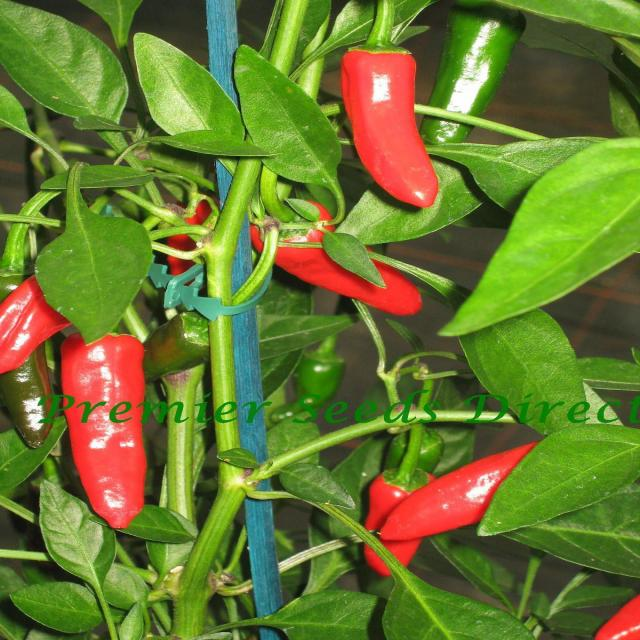red chili: (45, 332, 168, 536), (329, 50, 459, 222), (256, 196, 428, 317)
